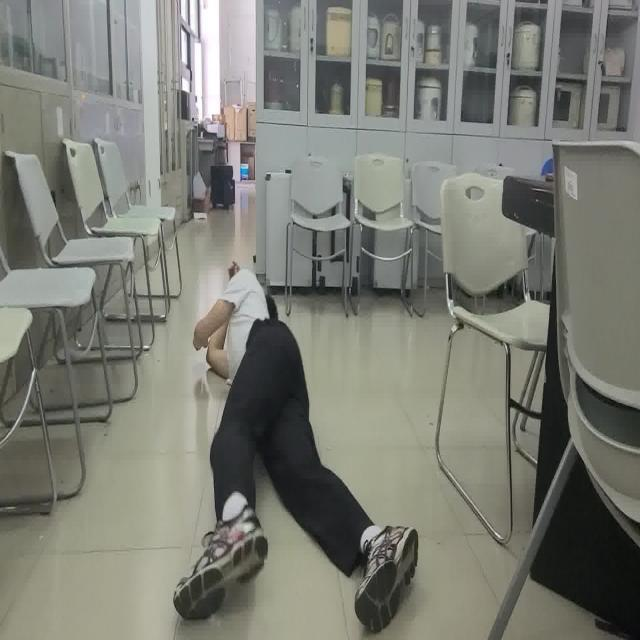fall: (171, 262, 418, 630)
